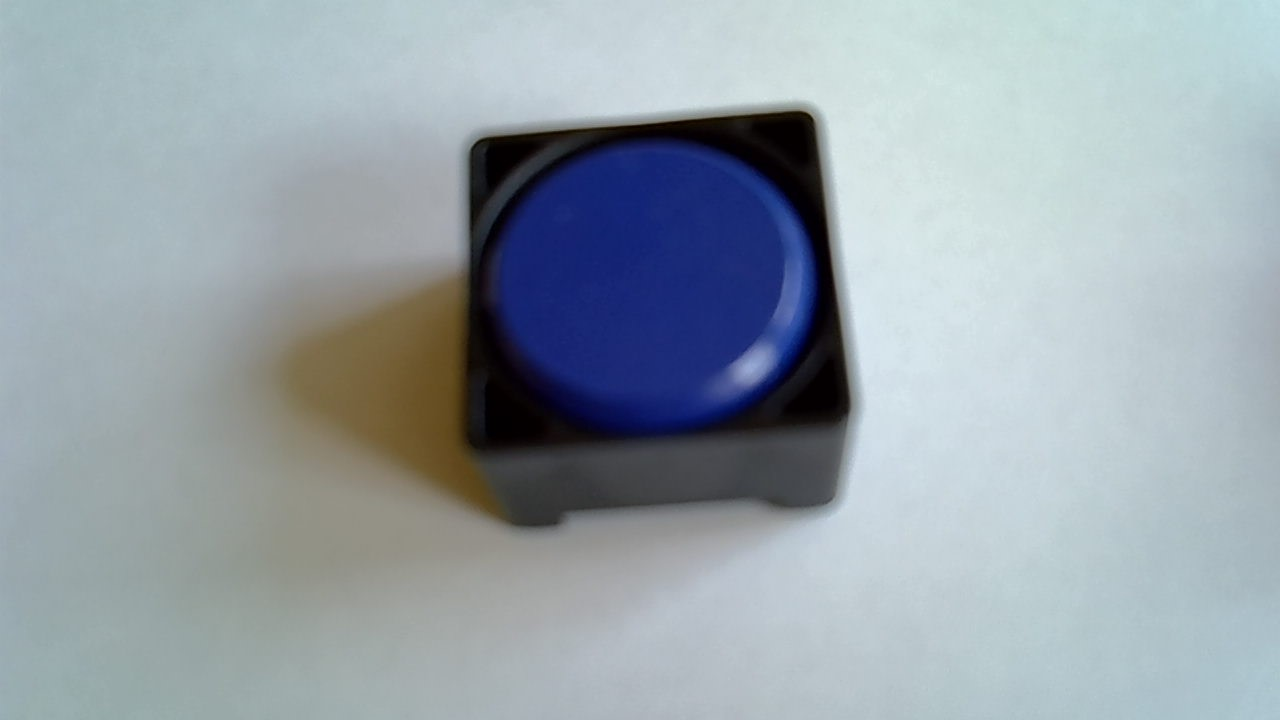Behaelter: (466, 107, 854, 524)
WerkStueck: (481, 138, 823, 424)
